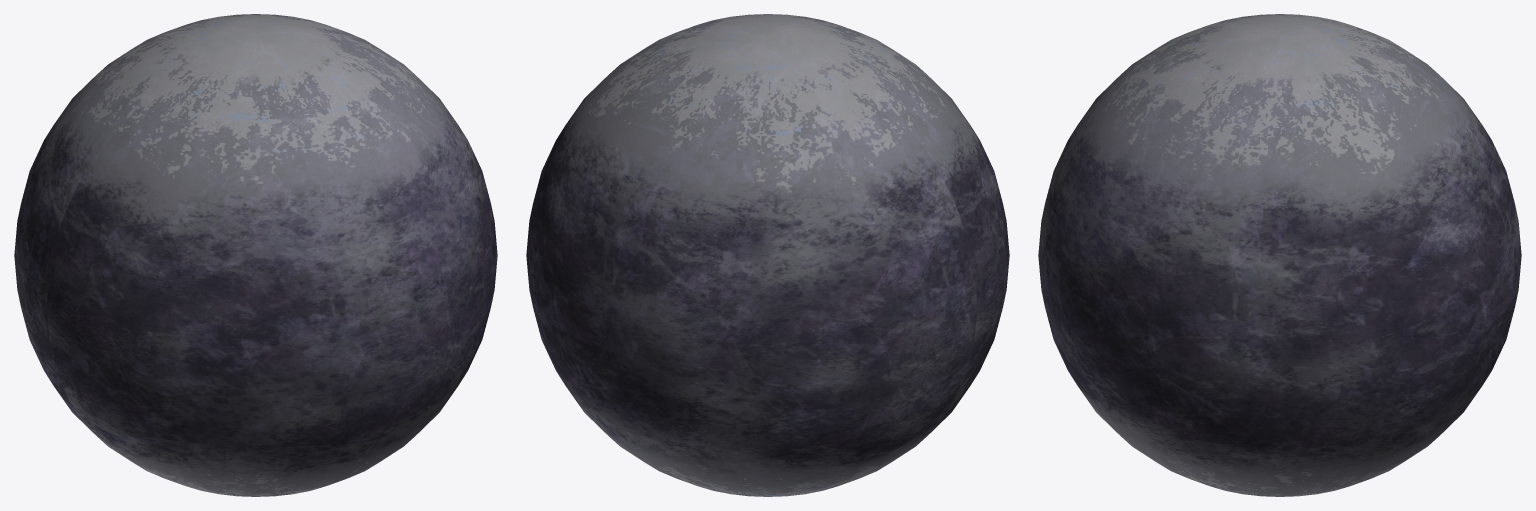
The model's file is frozen.glb.
3 renders of one model, left to right at view 1: azimuth 30°, elevation 25°; view 2: azimuth 150°, elevation 25°; view 3: azimuth 270°, elevation 25°, orthographic.
Visible parts, largest first — view 1: planet_frozen; view 2: planet_frozen; view 3: planet_frozen.
Part boxes in pixels (left/top/right/bottom): planet_frozen: left=14, top=14, right=497, bottom=496; planet_frozen: left=526, top=14, right=1009, bottom=496; planet_frozen: left=1038, top=14, right=1521, bottom=496.
Bounding box in the file's own units: 2 × 2 × 2.
Materials: 1 (1 with a texture image).
